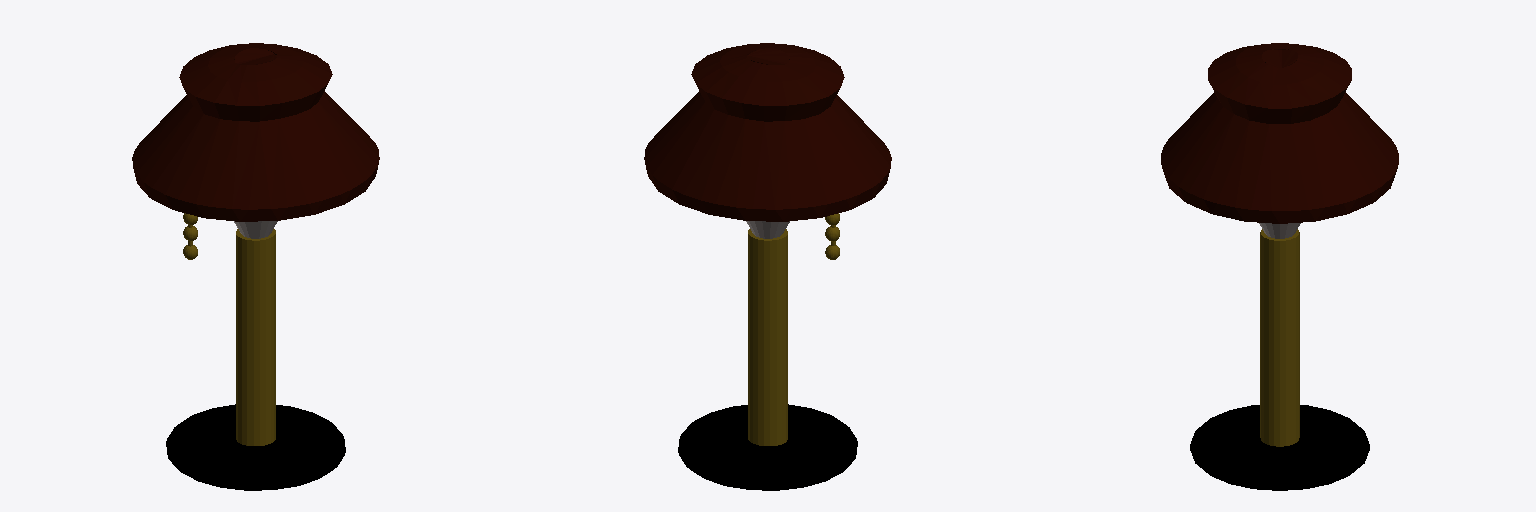
Rendered from Texture_Lamp.obj.
3 views of the same model, side by side, from view 1: azimuth 30°, elevation 25°; view 2: azimuth 150°, elevation 25°; view 3: azimuth 270°, elevation 25° (orthographic).
Visible parts, largest first — view 1: Lamp_mesh1; view 2: Lamp_mesh1; view 3: Lamp_mesh1.
Part boxes in pixels (x1,y1,x2,y2): Lamp_mesh1: (132,43,379,490); Lamp_mesh1: (644,43,891,490); Lamp_mesh1: (1161,43,1398,490).
Size of the model in its own units: 6.9 by 12.2 by 6.6.